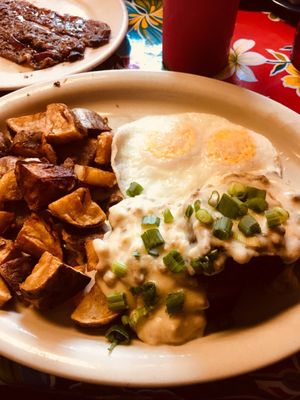pizza: (161, 0, 241, 79)
